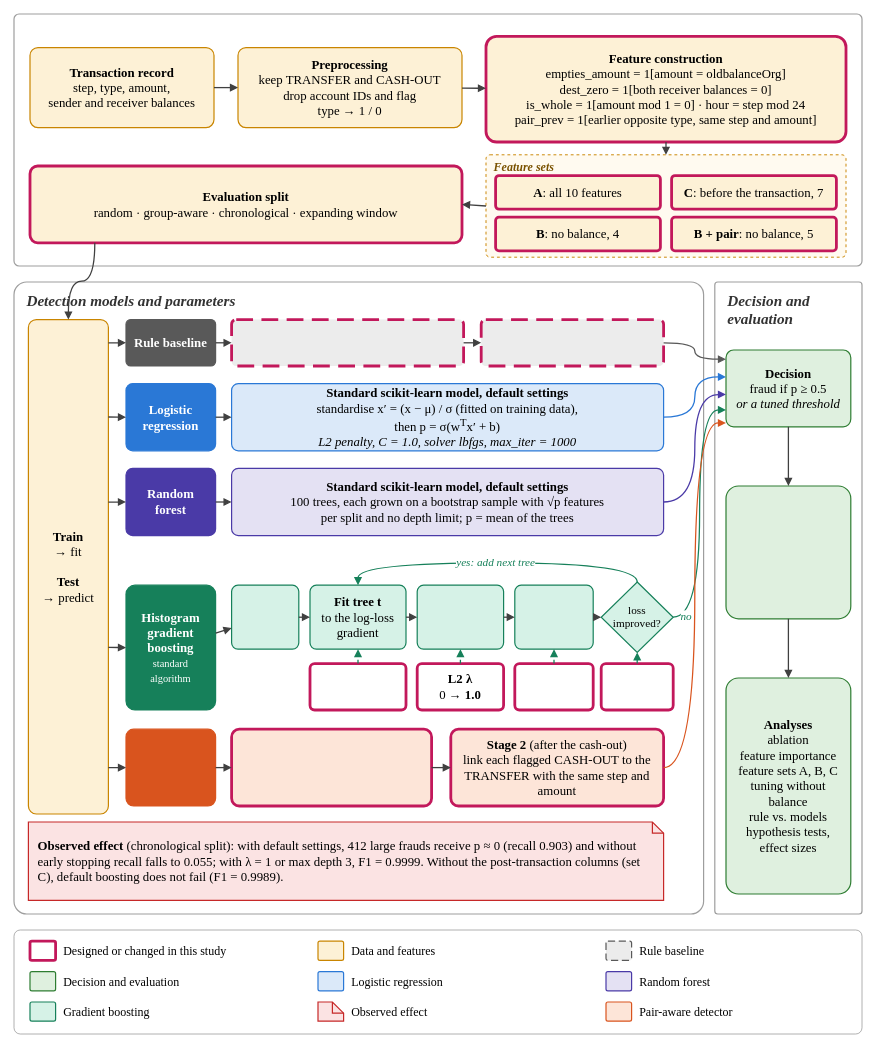
Image size: 877x1049. Some labels were removed from this diagram. The box of each missing label's shape, as (x1, y1, x2, y2) in pixels:
Bin ≤ 255 bins: (231, 584, 299, 649)
early stop on → off: (599, 662, 674, 711)
Input and feature construction: (13, 13, 862, 266)
Is amount equal to oldbalanceOrg?: (230, 318, 465, 367)
Leaf value −G / (H + λ): (416, 584, 504, 649)
learning rate η 0.1 → 0.05: (513, 662, 594, 711)
max depth none → 3: (308, 662, 407, 711)
Metrics precision, recall, F1 PR-AUC missed frauds false alarms bootstrap 95% CI: (725, 485, 851, 619)
Pair-aware two-stage detector: (125, 728, 216, 806)
Stage 1 (decision time) gradient boosting, λ = 1, on set B + pair: (230, 727, 433, 807)
Update F ← F + η·tree t: (514, 584, 593, 649)
yes → fraud no → legitimate: (479, 318, 665, 367)
